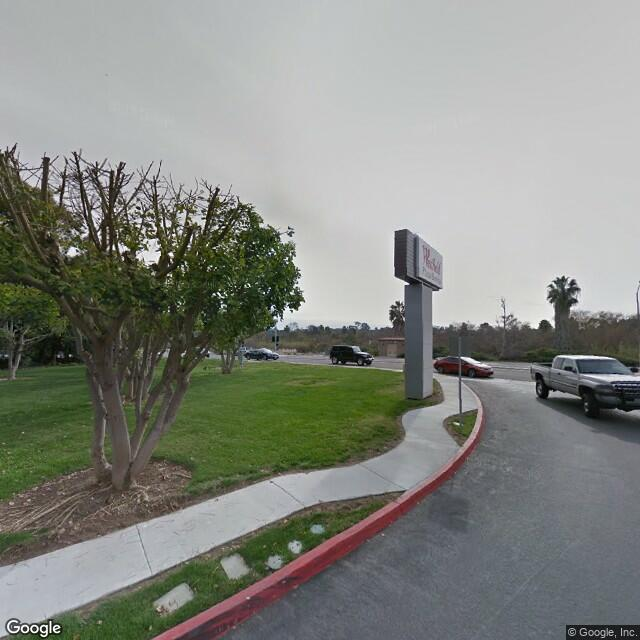litter: (93, 617, 102, 627), (380, 530, 388, 539), (146, 624, 156, 631), (281, 517, 291, 524), (453, 422, 466, 426)
